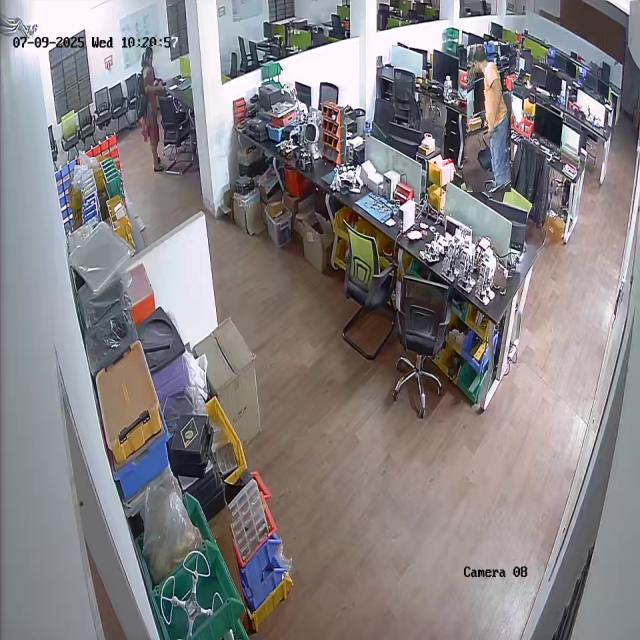person: (464, 44, 514, 193), (130, 46, 164, 174)
